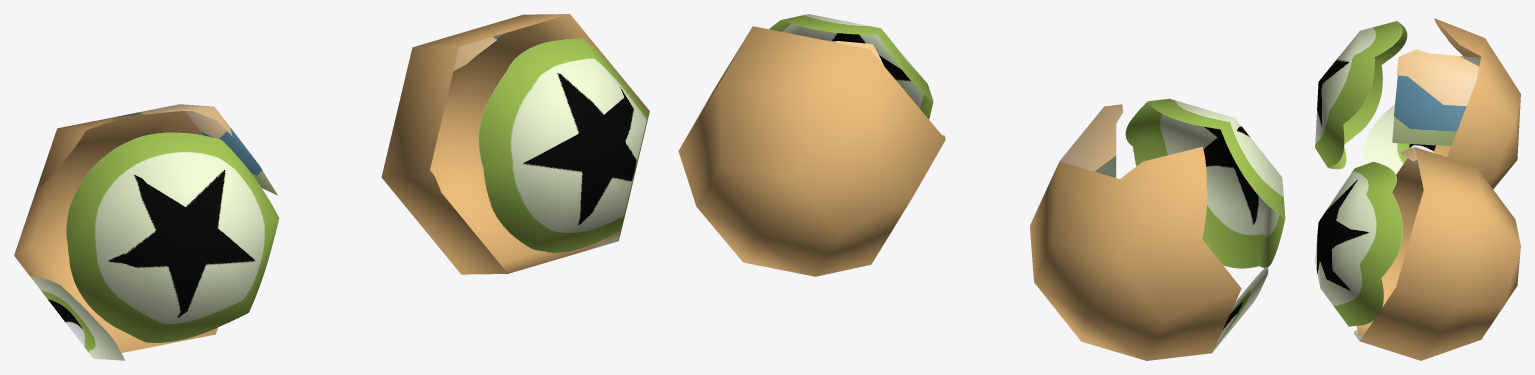
File: potato_eye1.fbx
3 renders of one model, left to right at view 1: azimuth 30°, elevation 25°; view 2: azimuth 150°, elevation 25°; view 3: azimuth 270°, elevation 25°, orthographic. The views are drawn at different scales.
Parts seen in each view (by area): view 1: eye1_pSphere2; view 2: eye1_pSphere2; view 3: eye1_pSphere2.
Part boxes in pixels (<box>): eye1_pSphere2: <box>14,14,649,360</box>; eye1_pSphere2: <box>678,14,1285,360</box>; eye1_pSphere2: <box>1315,18,1520,360</box>.
Size of the model in its own units: 1.14 by 0.4088 by 0.4465.
